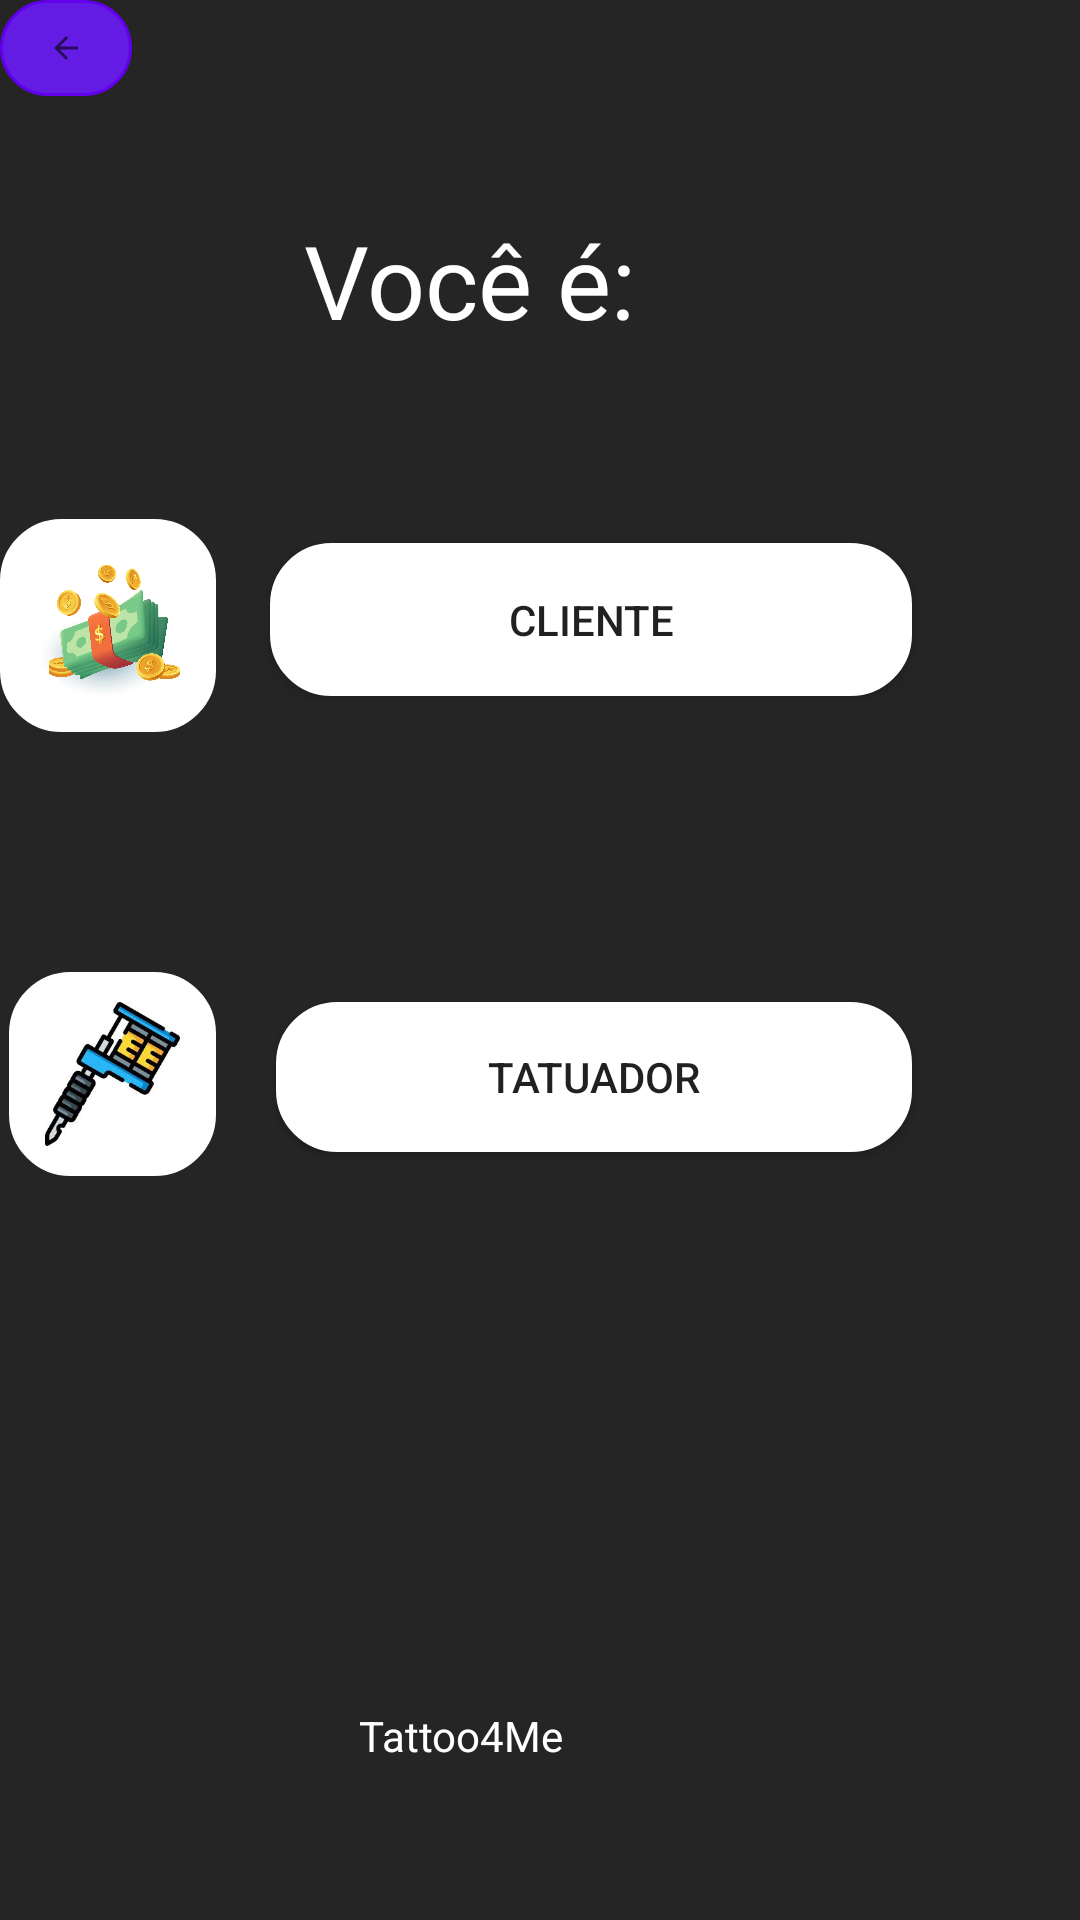

Where icons sit on this 1080w x 1920h app screen, as (x1, y1, x2, y2):
dinheiro: (0, 519, 216, 732)
